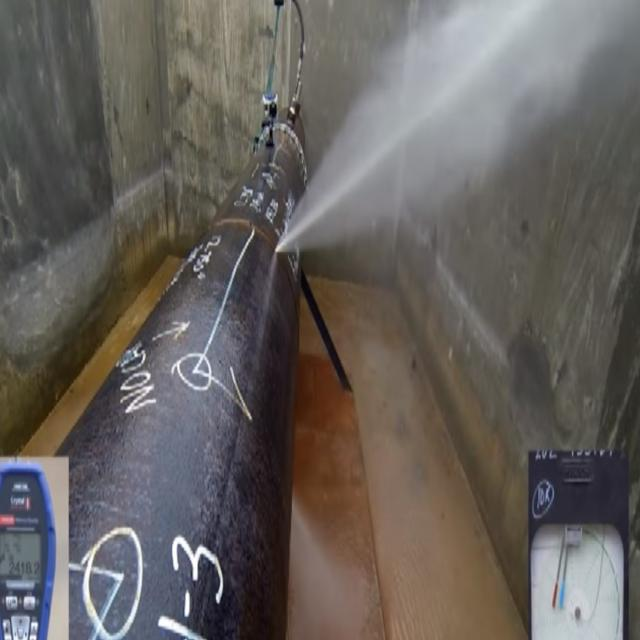leak: (279, 0, 625, 250)
